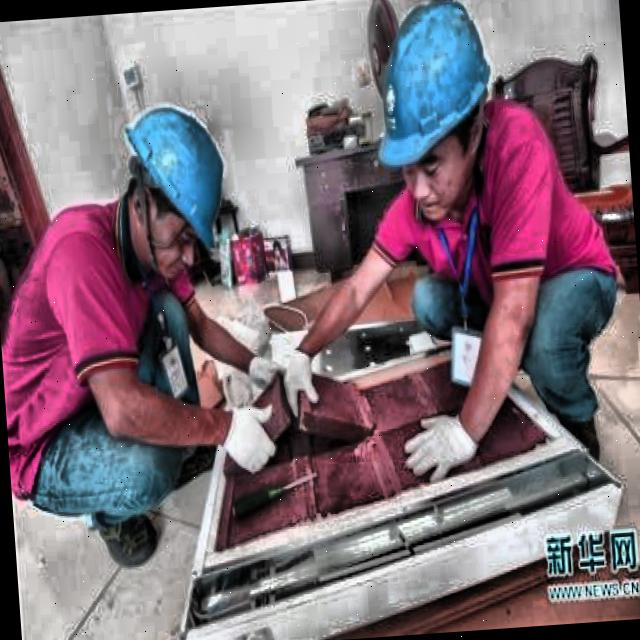helmet: (359, 0, 507, 224), (106, 81, 242, 296)
